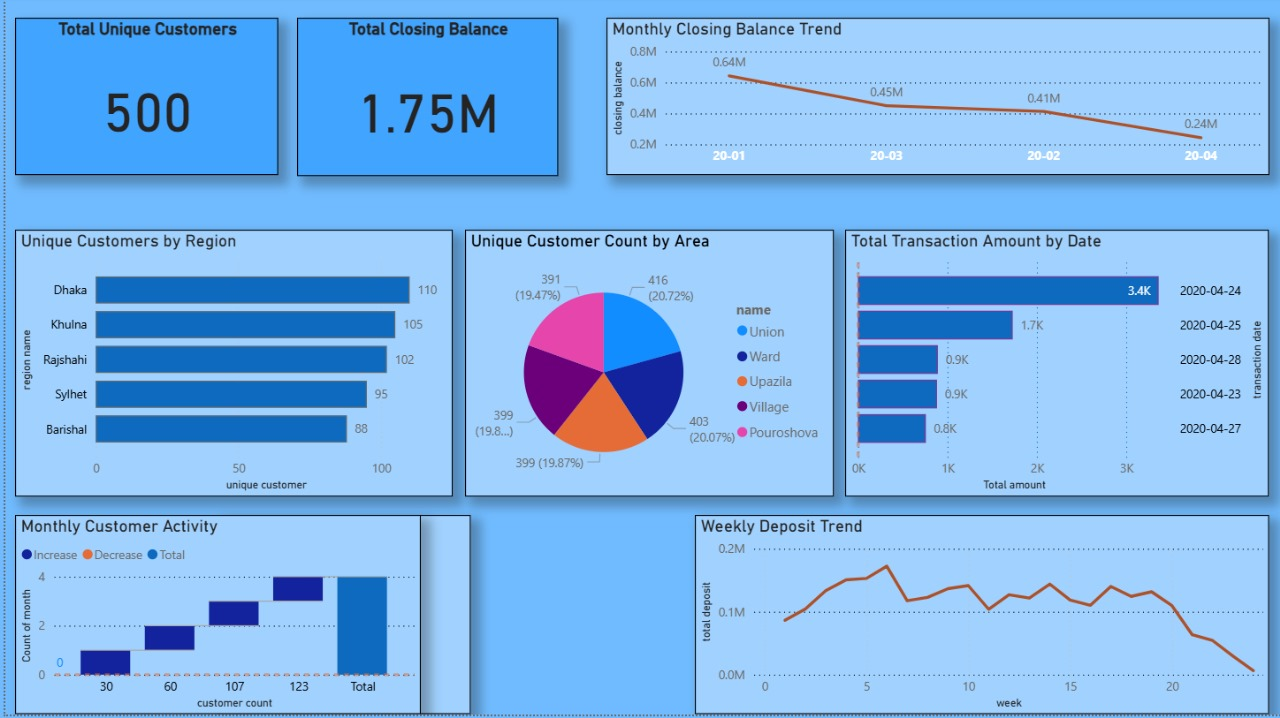

This screenshot's page, from the dashboard's own definition file:
{"tool":"powerbi","page":{"name":"Page 1","canvas":[1280,720],"ordinal":0},"visuals":[{"type":"card","title":"Total Unique Customers","fields":{"Values":["Sum(Query1.unique_customer)"]},"box":[9.8,20.4,264.2,157.8],"z":0},{"type":"clusteredBarChart","title":"Unique Customers by Region","fields":{"Category":["Query2.region_name"],"Y":["Sum(Query2.unique_customer)"]},"box":[9.6,233,439.1,267.5],"z":1000},{"type":"pieChart","title":"Unique Customer Count by Area","fields":{"Category":["Query3.name"],"Y":["Sum(Query3.unique_customers)"]},"box":[461.2,233,370.1,267.5],"z":2000},{"type":"slicer","title":"Total Transaction","fields":{"Values":["Query4.txn_type","Query4.total_amount"]},"box":[423.8,519.7,254.1,200.4],"z":3000},{"type":"card","title":"Total Closing Balance","fields":{"Values":["Sum(Query7.closing_balance)"]},"box":[292.4,20.1,261.8,159.2],"z":4000},{"type":"actionButton","box":[0,0,100,40],"z":5000},{"type":"barChart","title":"Total Transaction Amount by Date","fields":{"Y":["Sum(Query8.total_amount)"],"Category":["Query8.txn_date"]},"box":[842.8,233,424.7,267.5],"z":6000},{"type":"lineChart","title":"Monthly Closing Balance Trend","fields":{"Category":["Query7.month"],"Y":["Sum(Query7.closing_balance)"]},"box":[603.1,20.1,665.4,158.2],"z":7000},{"type":"lineChart","title":"Weekly Deposit Trend","fields":{"Category":["Query9.week_group"],"Y":["Sum(Query9.total_deposit)"]},"box":[691.3,519.7,576.2,200.4],"z":8000},{"type":"waterfallChart","title":"Monthly Customer Activity","fields":{"Category":["Query5.customer_count"],"Y":["CountNonNull(Query5.month)"]},"box":[9.6,519.7,406.5,200.4],"z":9000}]}

Visuals, with their boxes in screenshot pixels (x1, y1, x2, y2), scaled from the page's 1280x720 canvas onto the 1280x718 screenshot:
"Total Unique Customers" card: (x1=10, y1=20, x2=274, y2=178)
"Unique Customers by Region" clusteredBarChart: (x1=10, y1=232, x2=449, y2=499)
"Unique Customer Count by Area" pieChart: (x1=461, y1=232, x2=831, y2=499)
"Total Transaction" slicer: (x1=424, y1=518, x2=678, y2=717)
"Total Closing Balance" card: (x1=292, y1=20, x2=554, y2=179)
actionButton: (x1=0, y1=0, x2=100, y2=40)
"Total Transaction Amount by Date" barChart: (x1=843, y1=232, x2=1268, y2=499)
"Monthly Closing Balance Trend" lineChart: (x1=603, y1=20, x2=1268, y2=178)
"Weekly Deposit Trend" lineChart: (x1=691, y1=518, x2=1268, y2=717)
"Monthly Customer Activity" waterfallChart: (x1=10, y1=518, x2=416, y2=717)
